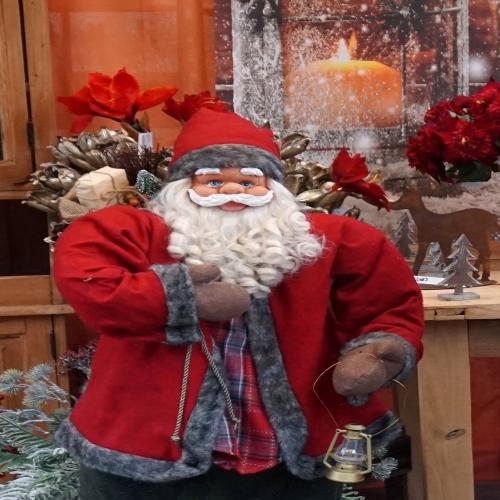Santa: (49, 102, 428, 500)
